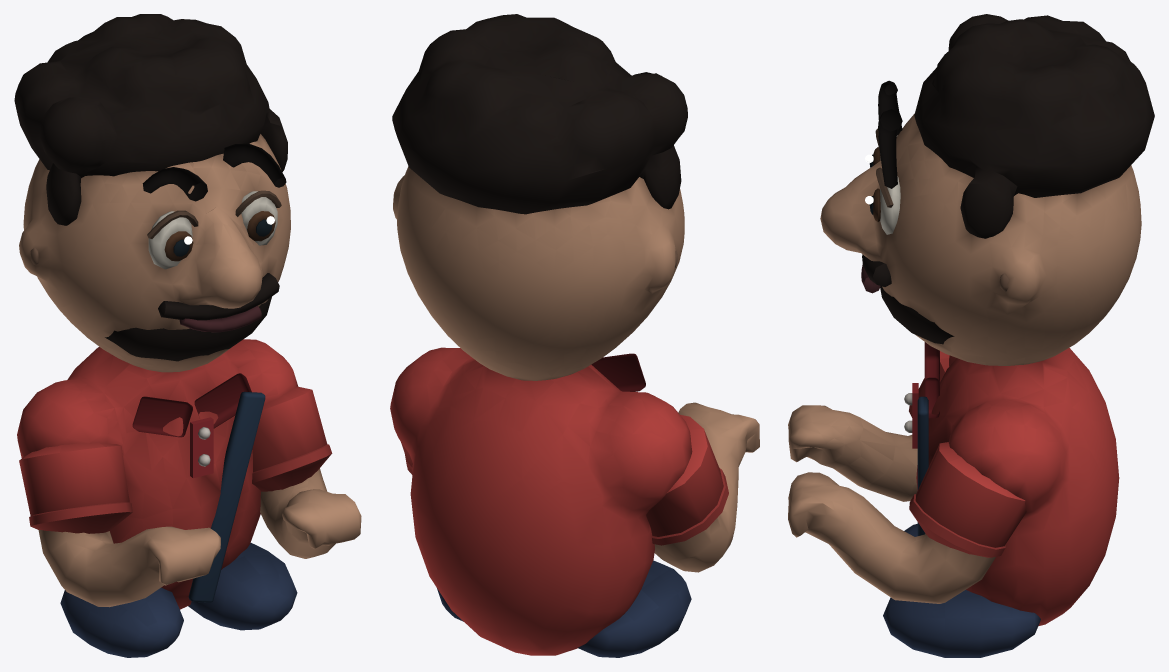
File: roman.glb
3 renders of one model, left to right at view 1: azimuth 30°, elevation 25°; view 2: azimuth 150°, elevation 25°; view 3: azimuth 270°, elevation 25°, orthographic. The views are drawn at different scales.
Visible parts, largest first — view 1: roman-head-root-soft-1f1815, roman-head-root-soft-d6a382, roman-root-soft-d84a45, roman-root-344465-r85, roman-arm-right-soft-d6a382, roman-arm-right-d84a45-r85, roman-arm-left-soft-d6a382, roman-head-root-1f1815-r85, roman-root-263b54-r70, roman-root-b8343a-r70, roman-arm-left-d84a45-r85, roman-head-root-1f1815-r70 (+6 smaller); view 2: roman-root-soft-d84a45, roman-head-root-soft-1f1815, roman-head-root-soft-d6a382, roman-arm-right-soft-d6a382, roman-root-344465-r85, roman-arm-right-d84a45-r85, roman-root-b8343a-r70, roman-arm-right-ad3b37-r85; view 3: roman-head-root-soft-d6a382, roman-head-root-soft-1f1815, roman-root-soft-d84a45, roman-arm-left-soft-d6a382, roman-arm-right-soft-d6a382, roman-root-344465-r85, roman-arm-left-d84a45-r85, roman-head-root-1f1815-r70, roman-head-root-1f1815-r85, roman-arm-left-ad3b37-r85, roman-root-b8343a-r70, roman-root-263b54-r70 (+1 smaller).
Part boxes in pixels (<box>): roman-head-root-soft-1f1815: <box>14,14,287,225</box>; roman-head-root-soft-d6a382: <box>19,134,290,372</box>; roman-root-soft-d84a45: <box>17,339,298,609</box>; roman-root-344465-r85: <box>60,543,297,657</box>; roman-arm-right-soft-d6a382: <box>38,526,220,607</box>; roman-arm-right-d84a45-r85: <box>19,442,129,515</box>; roman-arm-left-soft-d6a382: <box>260,468,361,558</box>; roman-head-root-1f1815-r85: <box>105,273,279,361</box>; roman-root-263b54-r70: <box>188,391,265,602</box>; roman-root-b8343a-r70: <box>132,373,251,478</box>; roman-arm-left-d84a45-r85: <box>252,386,327,471</box>; roman-head-root-1f1815-r70: <box>142,143,286,201</box>; roman-root-soft-d84a45: <box>390,347,692,655</box>; roman-head-root-soft-1f1815: <box>392,14,687,214</box>; roman-head-root-soft-d6a382: <box>393,166,684,380</box>; roman-arm-right-soft-d6a382: <box>654,402,759,572</box>; roman-root-344465-r85: <box>437,560,691,657</box>; roman-arm-right-d84a45-r85: <box>646,414,723,536</box>; roman-root-b8343a-r70: <box>591,353,645,391</box>; roman-arm-right-ad3b37-r85: <box>652,468,728,545</box>; roman-head-root-soft-d6a382: <box>820,114,1141,365</box>; roman-head-root-soft-1f1815: <box>914,14,1154,238</box>; roman-root-soft-d84a45: <box>916,348,1119,625</box>; roman-arm-left-soft-d6a382: <box>788,472,995,603</box>; roman-arm-right-soft-d6a382: <box>788,405,917,501</box>; roman-root-344465-r85: <box>883,524,1040,657</box>; roman-arm-left-d84a45-r85: <box>915,442,1026,547</box>; roman-head-root-1f1815-r70: <box>878,80,902,188</box>; roman-head-root-1f1815-r85: <box>862,254,954,344</box>; roman-arm-left-ad3b37-r85: <box>909,494,1005,557</box>; roman-root-b8343a-r70: <box>912,342,939,448</box>; roman-root-263b54-r70: <box>917,396,928,535</box>.
Size of the model in its own units: 1.13 by 2.12 by 1.2.
